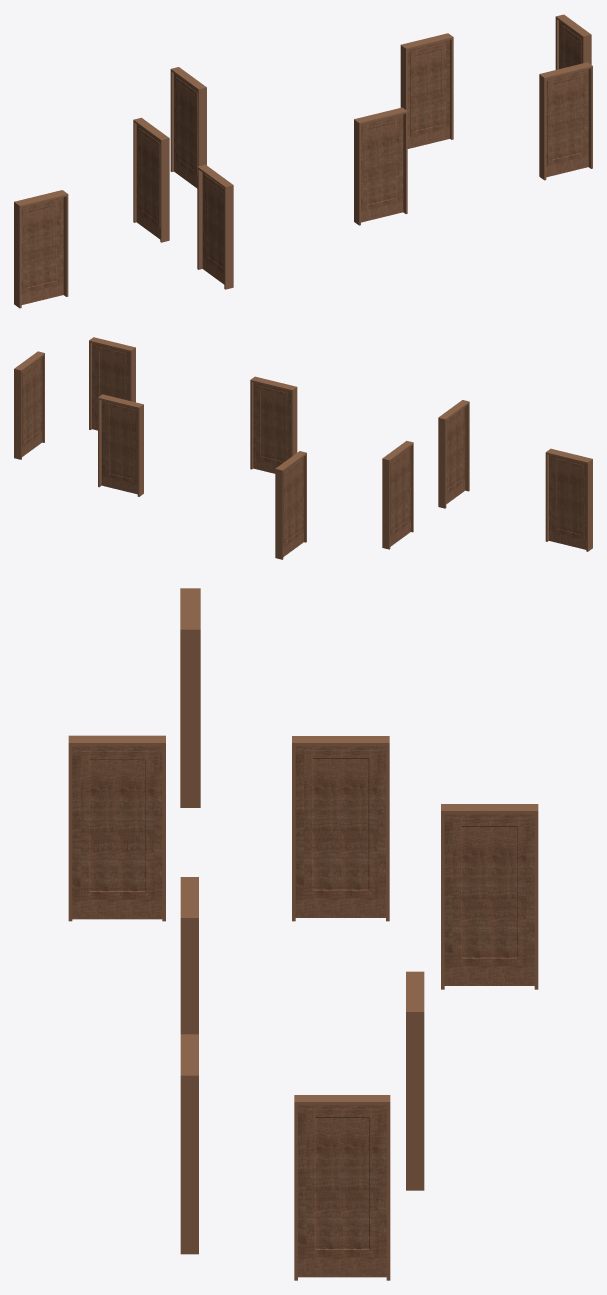
Rendered from doors_closed01.obj.
The picture shows the model from 3 angles, top to bottom: view 1: azimuth 30°, elevation 25°; view 2: azimuth 150°, elevation 25°; view 3: azimuth 270°, elevation 25°; orthographic projection. The views are drawn at different scales.
Visible parts, largest first — view 1: PivotDoor020, PivotDoor024, PivotDoor021, PivotDoor022, PivotDoor018, PivotDoor025, PivotDoor019, PivotDoor023; view 2: PivotDoor020, PivotDoor022, PivotDoor021, PivotDoor018, PivotDoor019, PivotDoor025, PivotDoor024, PivotDoor023; view 3: PivotDoor025, PivotDoor019, PivotDoor018, PivotDoor023, PivotDoor020, PivotDoor024, PivotDoor022, PivotDoor021.
Part boxes in pixels (left/top/right/bottom): PivotDoor020: left=14, top=190, right=68, bottom=308; PivotDoor024: left=539, top=62, right=592, bottom=180; PivotDoor021: left=354, top=107, right=407, bottom=225; PivotDoor022: left=400, top=33, right=453, bottom=148; PivotDoor018: left=133, top=117, right=169, bottom=242; PivotDoor025: left=197, top=164, right=233, bottom=289; PivotDoor019: left=170, top=67, right=206, bottom=188; PivotDoor023: left=555, top=14, right=591, bottom=69; PivotDoor020: left=545, top=448, right=592, bottom=551; PivotDoor022: left=98, top=394, right=143, bottom=496; PivotDoor021: left=250, top=376, right=297, bottom=473; PivotDoor018: left=382, top=440, right=413, bottom=549; PivotDoor019: left=275, top=451, right=306, bottom=559; PivotDoor025: left=438, top=400, right=469, bottom=508; PivotDoor024: left=89, top=337, right=135, bottom=430; PivotDoor023: left=14, top=351, right=44, bottom=459; PivotDoor025: left=68, top=735, right=165, bottom=921; PivotDoor019: left=441, top=804, right=538, bottom=989; PivotDoor018: left=292, top=736, right=389, bottom=921; PivotDoor023: left=294, top=1095, right=390, bottom=1280; PivotDoor020: left=180, top=588, right=200, bottom=807; PivotDoor024: left=180, top=1034, right=198, bottom=1254; PivotDoor022: left=406, top=971, right=424, bottom=1190; PivotDoor021: left=180, top=877, right=198, bottom=1034.
Size of the model in its own units: 13.21 by 2.14 by 5.1.
1 material, 1 textured.
